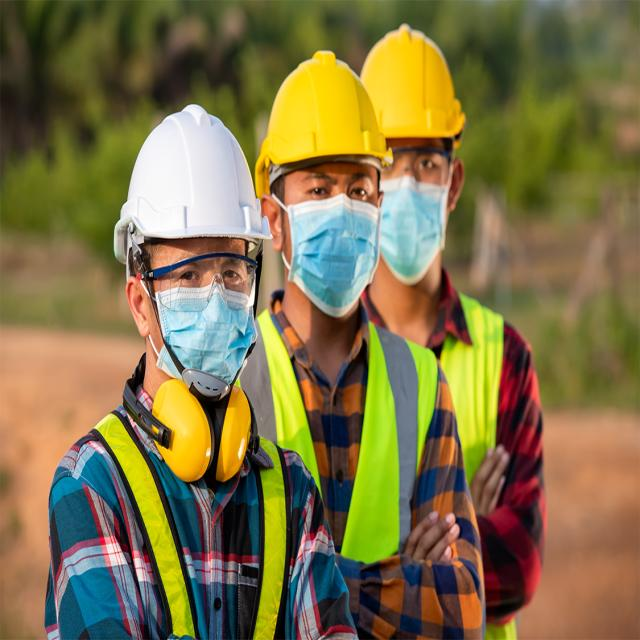helmet: (114, 101, 272, 276), (258, 44, 392, 197), (360, 21, 468, 154)
vest: (238, 306, 441, 563), (88, 408, 291, 640)
